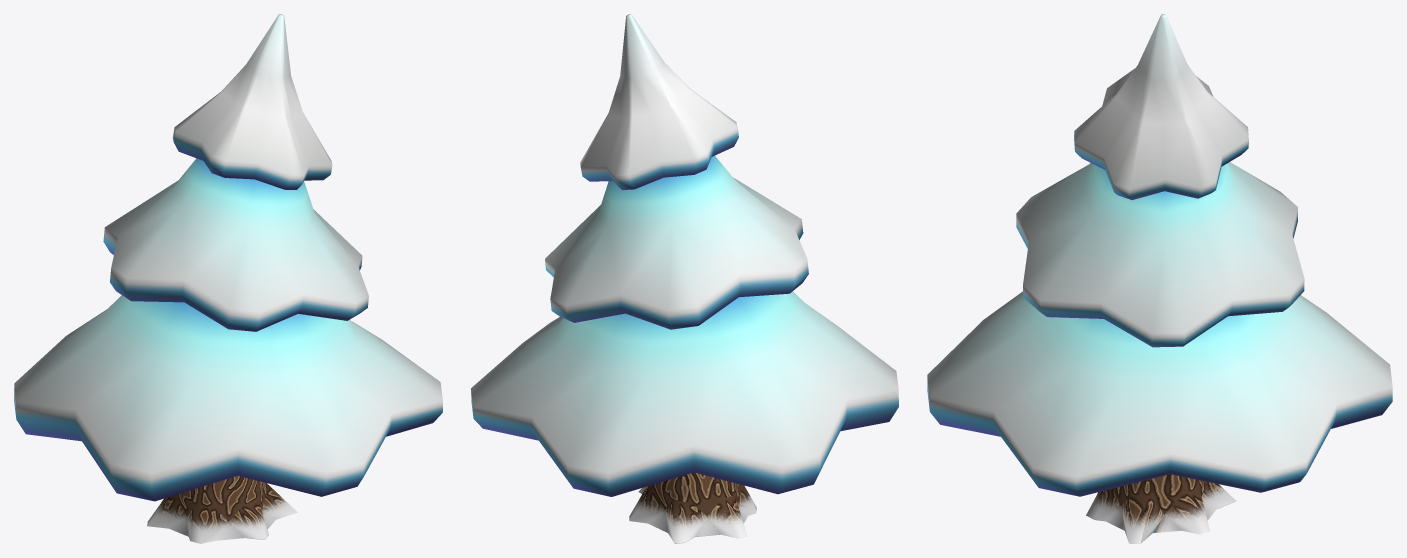
Rendered from Pinetree_02.fbx.
3 views of the same model, side by side, from view 1: azimuth 30°, elevation 25°; view 2: azimuth 150°, elevation 25°; view 3: azimuth 270°, elevation 25° (orthographic). The views are drawn at different scales.
Parts seen in each view (by area): view 1: Pinetree_02; view 2: Pinetree_02; view 3: Pinetree_02.
Boxes of the visible parts, left/top/right/bottom form: Pinetree_02: left=14, top=14, right=442, bottom=543; Pinetree_02: left=471, top=14, right=898, bottom=543; Pinetree_02: left=927, top=14, right=1392, bottom=543.
Bounding box in the file's own units: 186 × 249 × 199.
